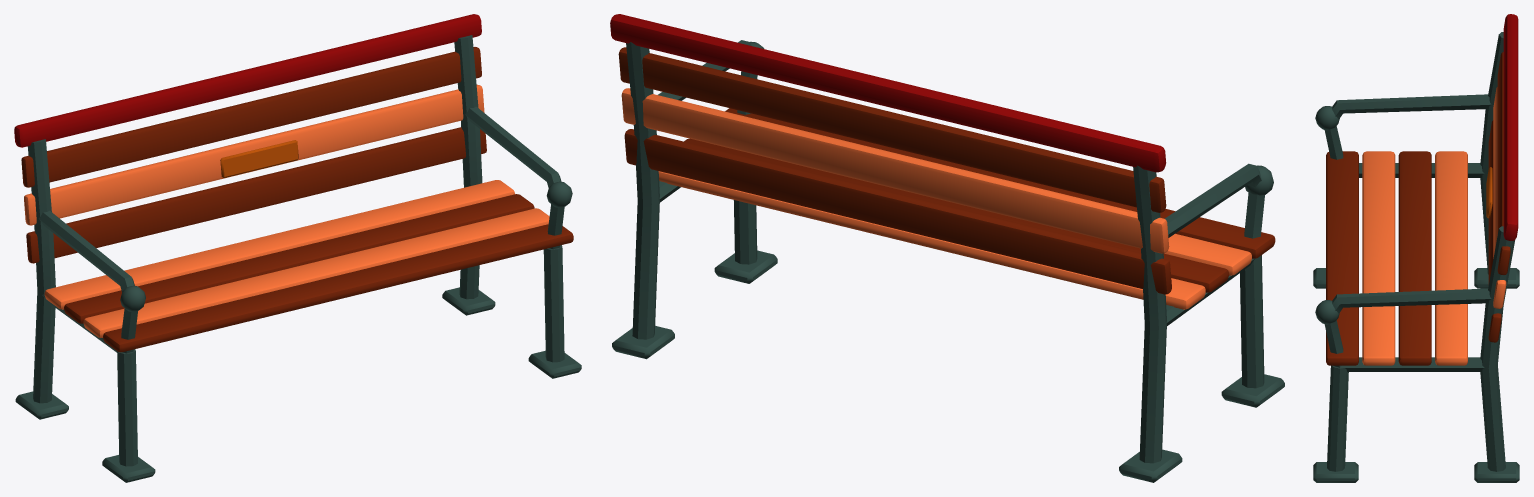
The model's file is Bench.obj.
3 renders of one model, left to right at view 1: azimuth 30°, elevation 25°; view 2: azimuth 150°, elevation 25°; view 3: azimuth 270°, elevation 25°, orthographic. The views are drawn at different scales.
Visible parts, largest first — view 1: Bench; view 2: Bench; view 3: Bench.
Part boxes in pixels (x1,y1,x2,y2): Bench: (14, 14, 581, 482); Bench: (610, 14, 1284, 482); Bench: (1313, 14, 1519, 482).
Bounding box in the file's own units: 6.05 × 3.5 × 2.5.
